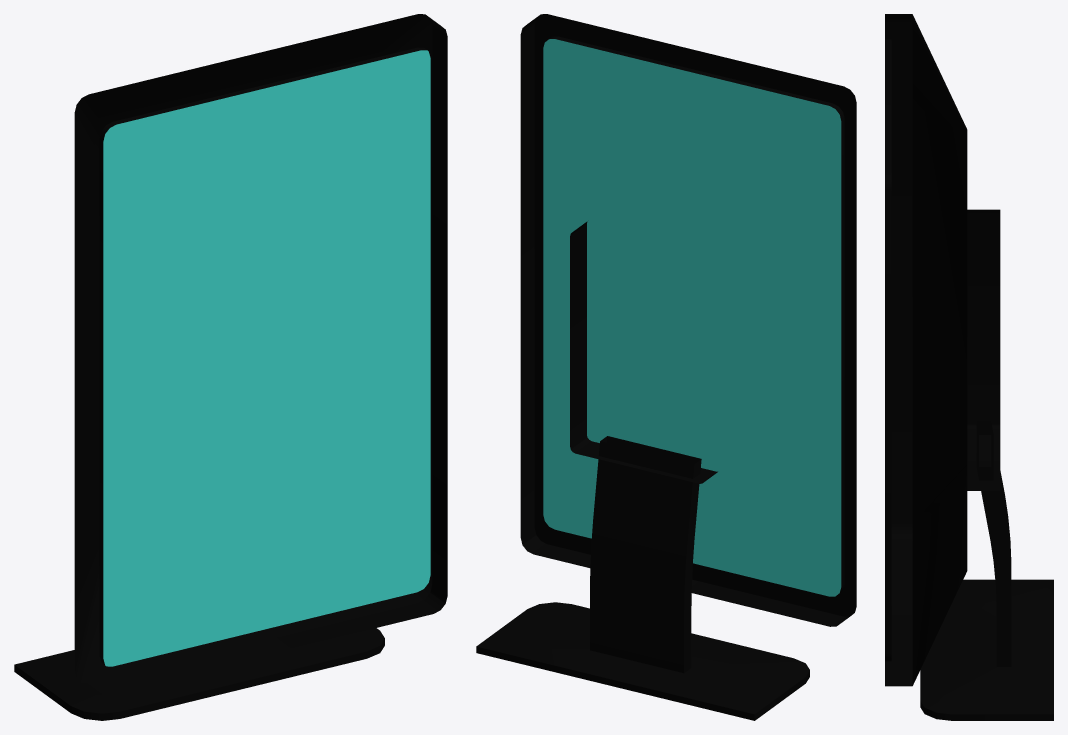
The model's file is TallComputer.fbx.
3 renders of one model, left to right at view 1: azimuth 30°, elevation 25°; view 2: azimuth 150°, elevation 25°; view 3: azimuth 270°, elevation 25°, orthographic. The views are drawn at different scales.
Visible parts, largest first — view 1: Tall Computer Glow, Tall Computer; view 2: Tall Computer Glow, Tall Computer; view 3: Tall Computer.
Part boxes in pixels (box(x1,y1,x2,y2)): Tall Computer Glow: box(103, 50, 430, 666); Tall Computer: box(14, 14, 447, 720); Tall Computer Glow: box(543, 39, 841, 596); Tall Computer: box(476, 14, 856, 720); Tall Computer: box(885, 14, 1053, 720).
Size of the model in its own units: 59.21 by 101 by 27.1.
